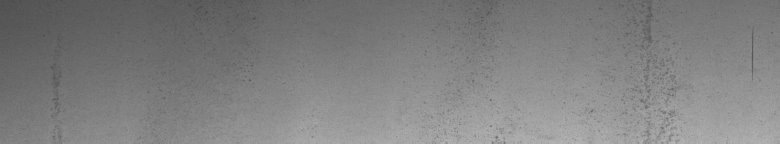ib: (580, 4, 682, 136)
